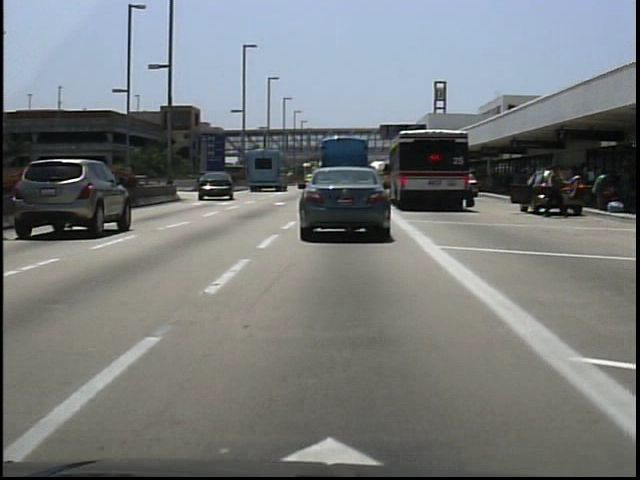person: (540, 162, 568, 220)
